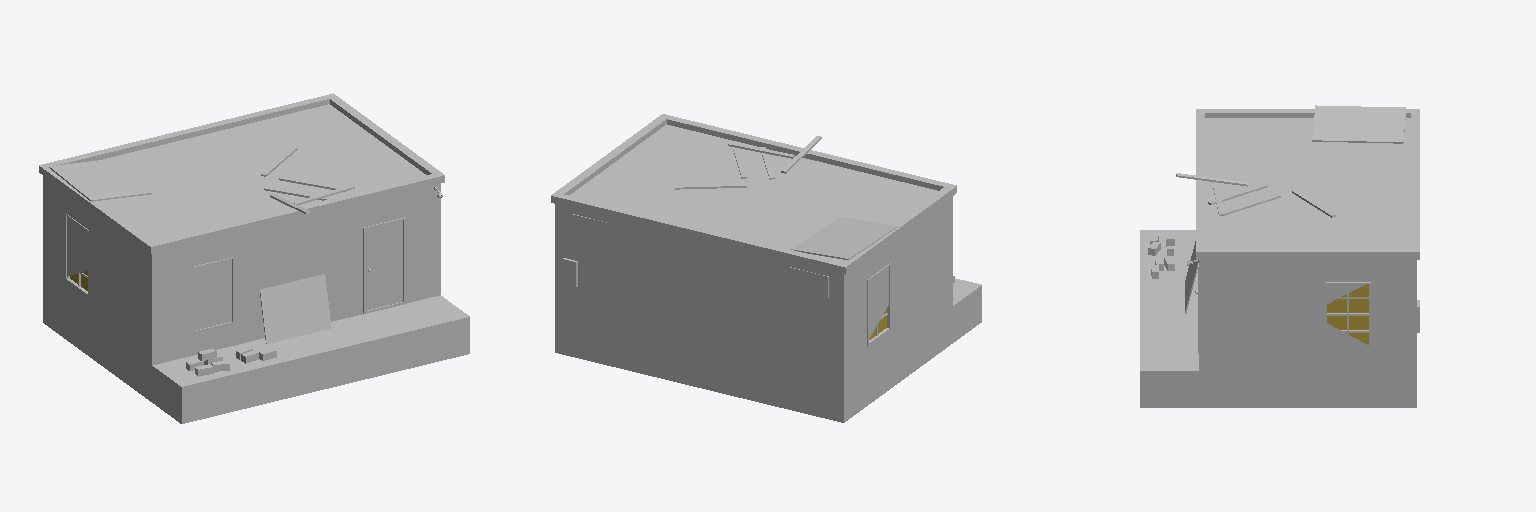
Rendered from CementShack2.obj.
3 views of the same model, side by side, from view 1: azimuth 30°, elevation 25°; view 2: azimuth 150°, elevation 25°; view 3: azimuth 270°, elevation 25° (orthographic).
Parts seen in each view (by area): view 1: Building_Cube.002, plywood.001_Cube.021, plywood_Cube.022, DoorFrame_Cube.012, WindowFrame_Cube.020; view 2: Building_Cube.002, plywood_Cube.022, Vent_Cube.009, Vent.001_Cube.007; view 3: Building_Cube.002, plywood_Cube.022, Window.002_Cube.003, WindowFrame.002_Cube.004.
Boxes of the visible parts, x1,y1,x2,y2 form: Building_Cube.002: [39, 93, 469, 423]; plywood.001_Cube.021: [260, 274, 331, 343]; plywood_Cube.022: [49, 159, 151, 201]; DoorFrame_Cube.012: [363, 217, 405, 313]; WindowFrame_Cube.020: [194, 257, 234, 333]; Building_Cube.002: [551, 114, 981, 422]; plywood_Cube.022: [791, 217, 897, 259]; Vent_Cube.009: [789, 267, 828, 297]; Vent.001_Cube.007: [570, 214, 608, 244]; Building_Cube.002: [1140, 109, 1419, 407]; plywood_Cube.022: [1312, 105, 1405, 143]; Window.002_Cube.003: [1327, 284, 1368, 344]; WindowFrame.002_Cube.004: [1325, 282, 1370, 348].
Bounding box in the file's own units: 14.44 × 7.68 × 11.86.